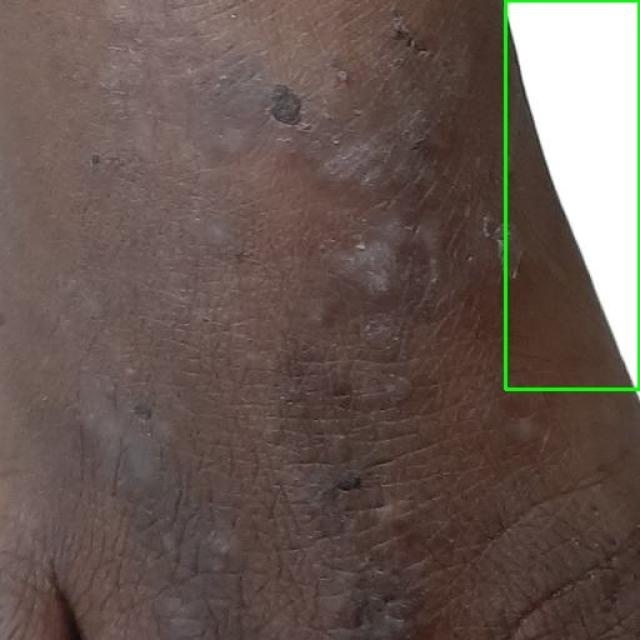Contact Dermatitis: (505, 0, 639, 389)
